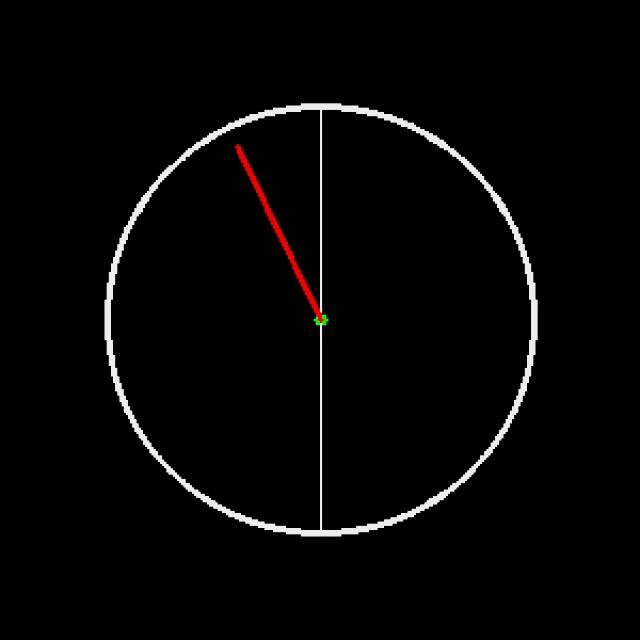Needle_Tip: (215, 135, 268, 178)
Needle_base: (291, 292, 356, 349)
